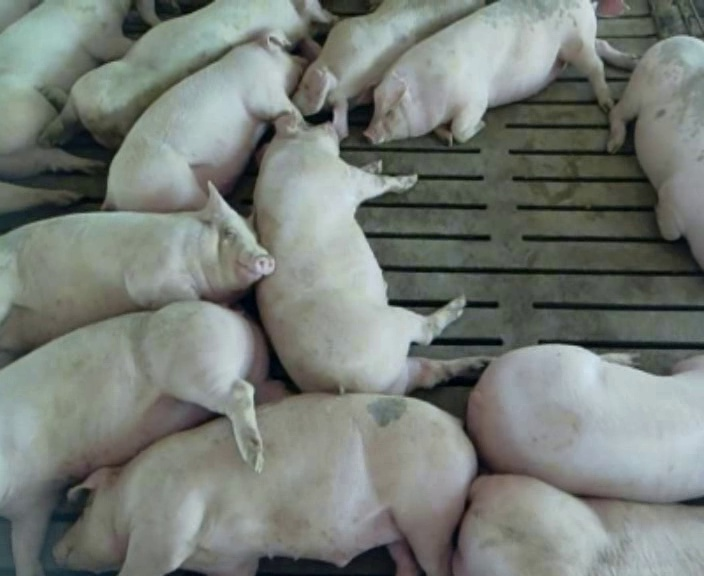pig: (0, 302, 286, 573), (54, 394, 475, 574), (254, 116, 489, 393), (0, 184, 273, 362), (38, 2, 333, 147), (364, 2, 635, 143), (467, 346, 703, 501), (104, 32, 305, 211), (293, 1, 483, 138), (453, 476, 703, 574), (0, 2, 131, 177), (607, 36, 703, 268)
